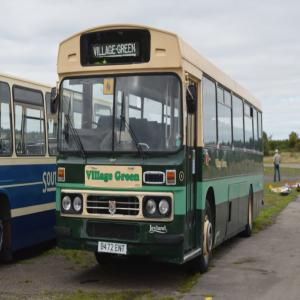Vehicle-registration-plate: (99, 242, 127, 256)
